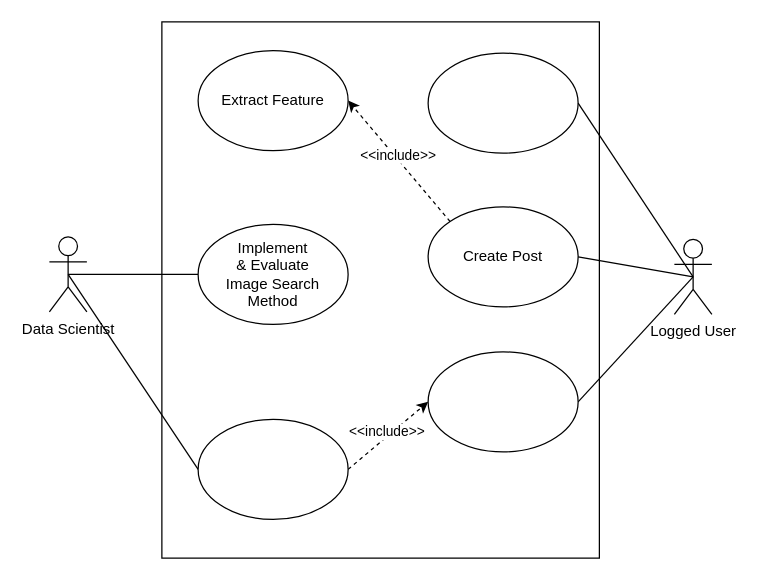
Image size: 758x580. Some labels were removed from this diagram. Each missing label, with the centre of its shape:
Get Search Results: [502,401]
Request Search Results: [272,468]
View Feed: [502,102]
